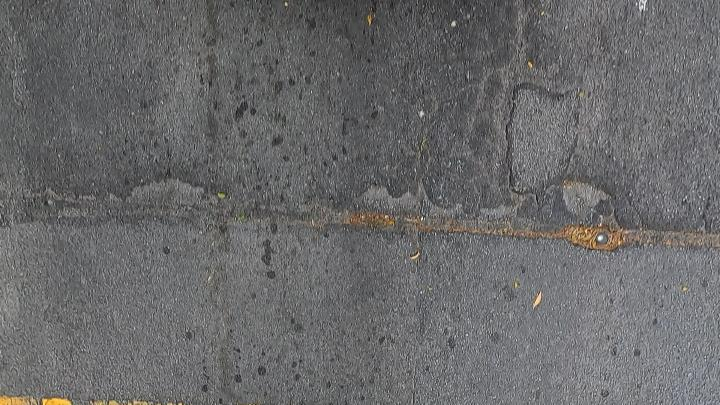Crack: (0, 177, 720, 251), (0, 180, 719, 250)
